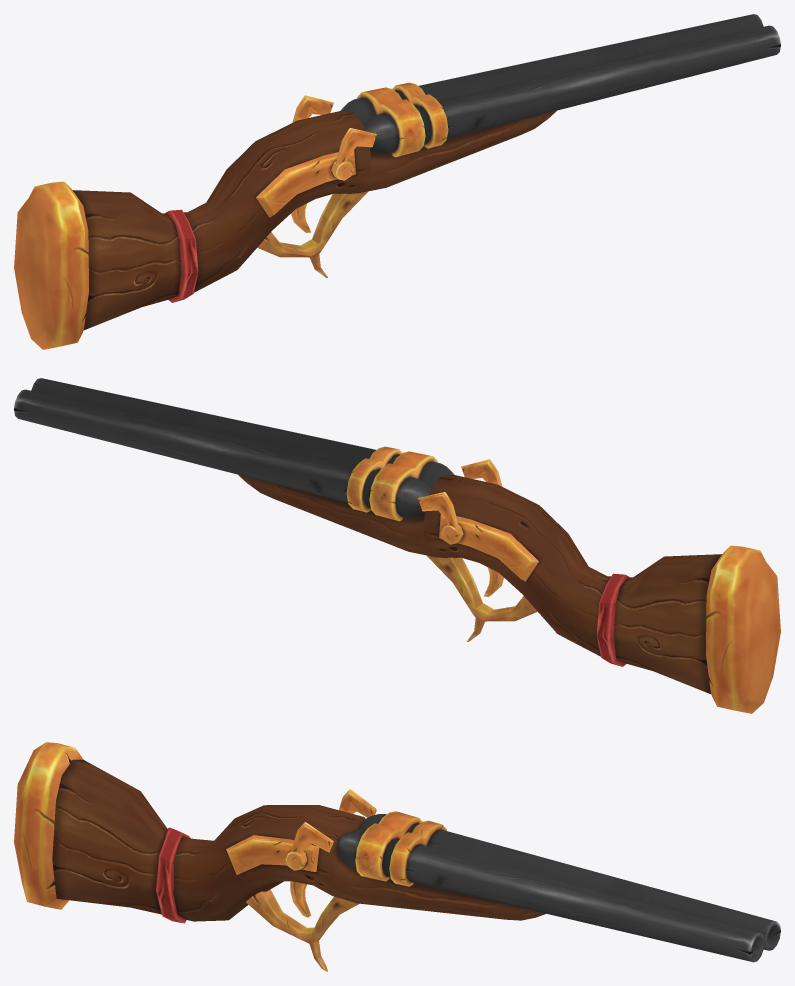
3 views of the same model, one above another, from view 1: azimuth 30°, elevation 25°; view 2: azimuth 150°, elevation 25°; view 3: azimuth 330°, elevation 25° (orthographic).
Parts seen in each view (by area): view 1: Cube.005; view 2: Cube.005; view 3: Cube.005.
Part boxes in pixels (x1,y1,x2,y2): Cube.005: [14, 14, 780, 349]; Cube.005: [14, 378, 780, 713]; Cube.005: [14, 742, 780, 971].
Size of the model in its own units: 4.05 by 0.8881 by 0.479.
1 material, 1 textured.
